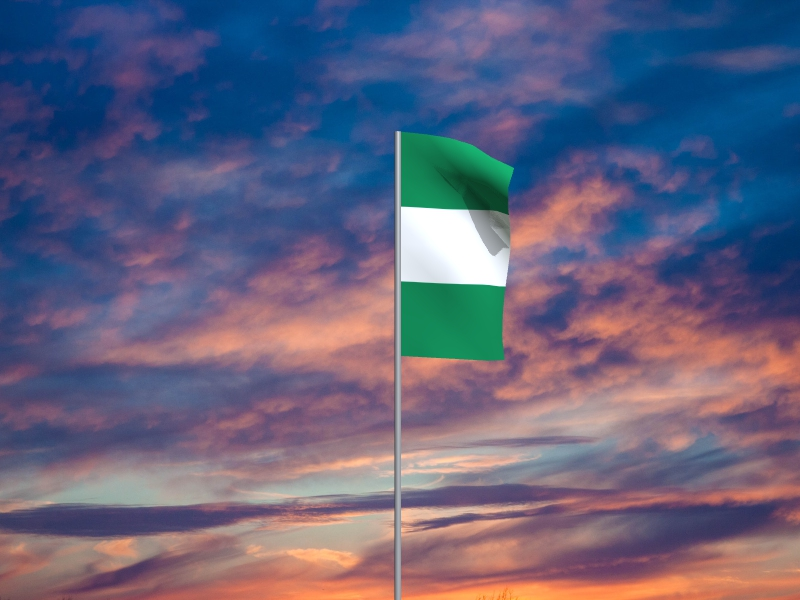ng: (401, 133, 516, 362)
